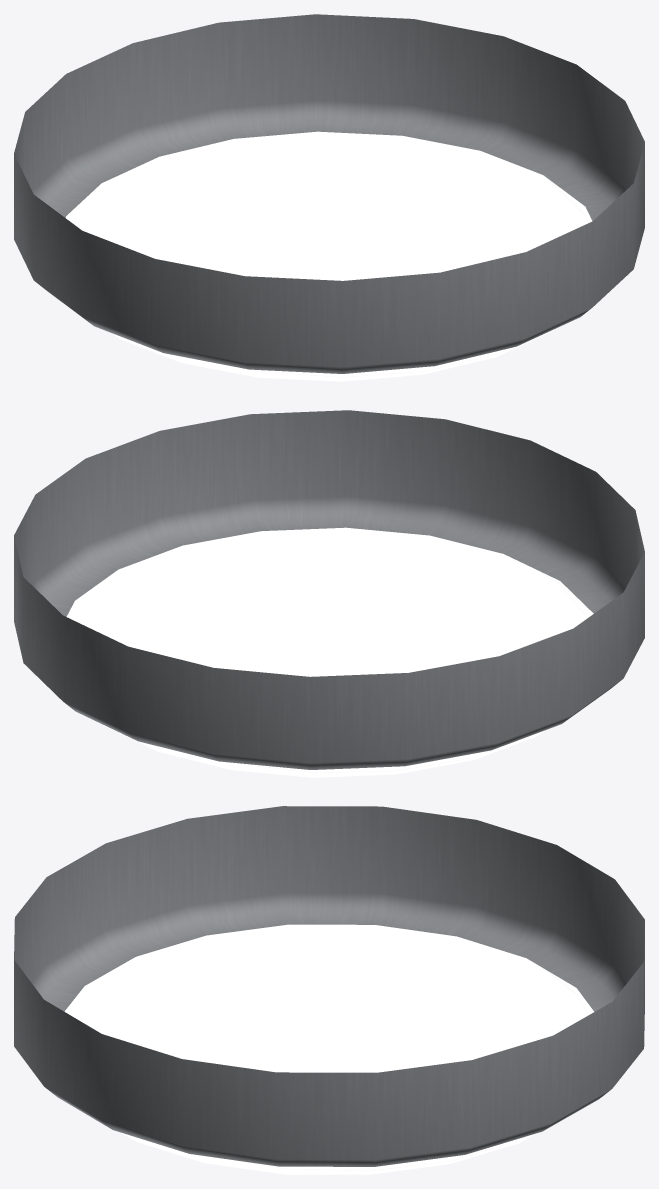
File: SpotLight.fbx
3 views of the same model, one above another, from view 1: azimuth 30°, elevation 25°; view 2: azimuth 150°, elevation 25°; view 3: azimuth 270°, elevation 25° (orthographic).
Parts seen in each view (by area): view 1: SpotLight; view 2: SpotLight; view 3: SpotLight.
Part boxes in pixels (x1,y1,x2,y2): SpotLight: [14, 14, 644, 381]; SpotLight: [14, 410, 644, 777]; SpotLight: [14, 806, 644, 1174].
Size of the model in its own units: 33.16 by 7.38 by 33.16.
